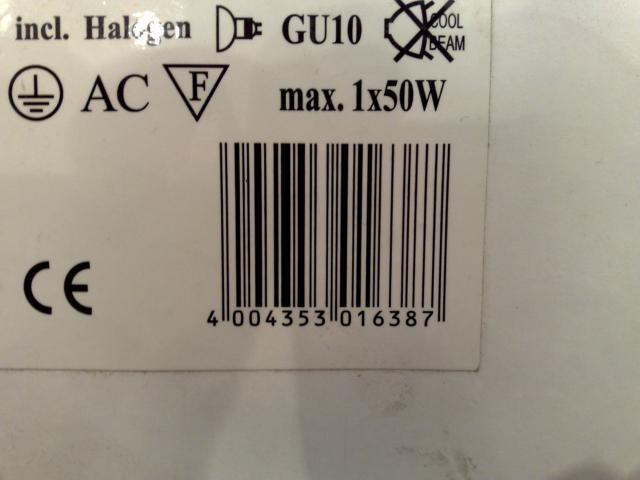Barkod: (216, 141, 449, 309)
